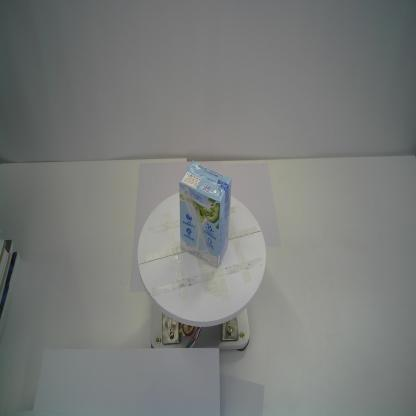Milk: (178, 159, 233, 268)
